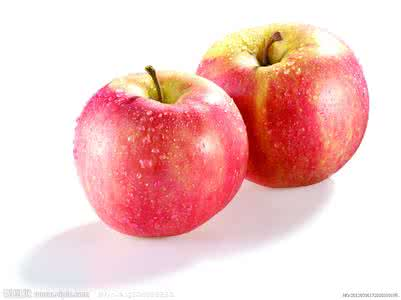apple: (196, 23, 370, 191), (75, 72, 247, 239)
